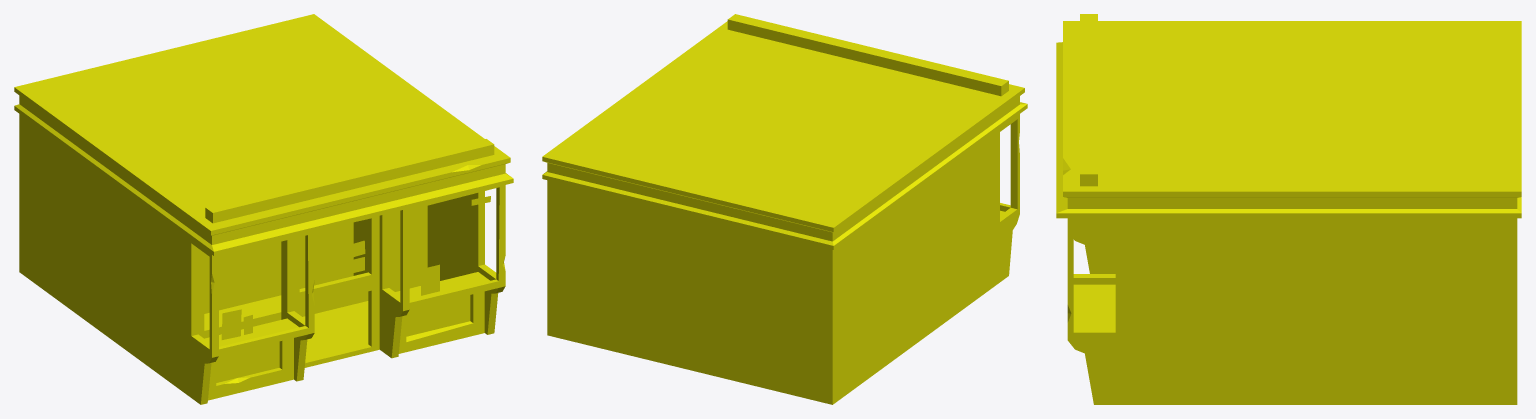
The model's file is cty_shop4.glb.
3 views of the same model, side by side, from view 1: azimuth 30°, elevation 25°; view 2: azimuth 150°, elevation 25°; view 3: azimuth 270°, elevation 25° (orthographic). The views are drawn at different scales.
Visible parts, largest first — view 1: SM_Bld_Shop_04; view 2: SM_Bld_Shop_04; view 3: SM_Bld_Shop_04.
Boxes of the visible parts, box(x1,y1,x2,y2) form: SM_Bld_Shop_04: box(14, 14, 513, 404); SM_Bld_Shop_04: box(542, 14, 1027, 404); SM_Bld_Shop_04: box(1056, 14, 1521, 404).
Bounding box in the file's own units: 0.0511 × 0.0317 × 0.0589.
1 material, 1 textured.
